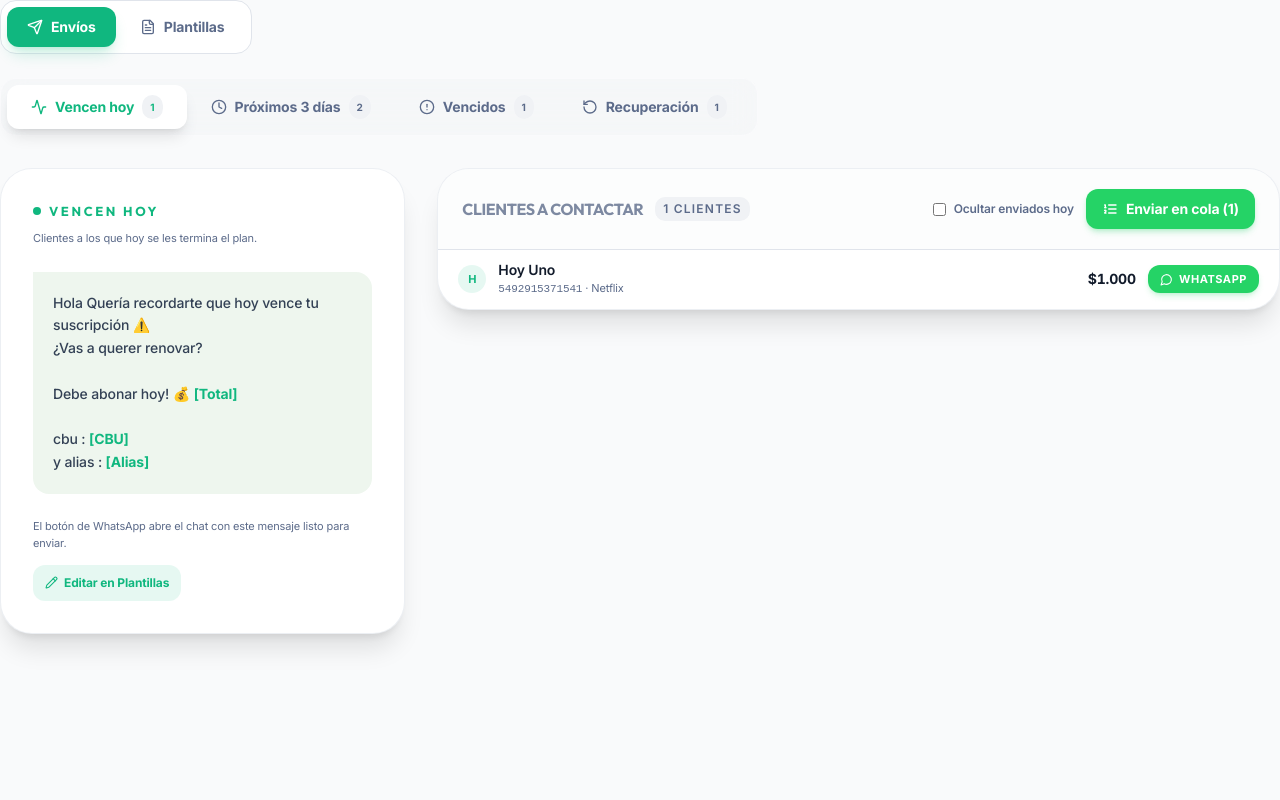
MessagesView › cada pestaña lista solo sus clientes con su plantilla
Expected: the text "Hoy Uno" is shown, [498, 261, 555, 278]
Expected: the text "Pronto Uno" is not shown
Press the mouse on the tab "Próximos 3 días 2" at (291, 107), box [186, 85, 395, 129]
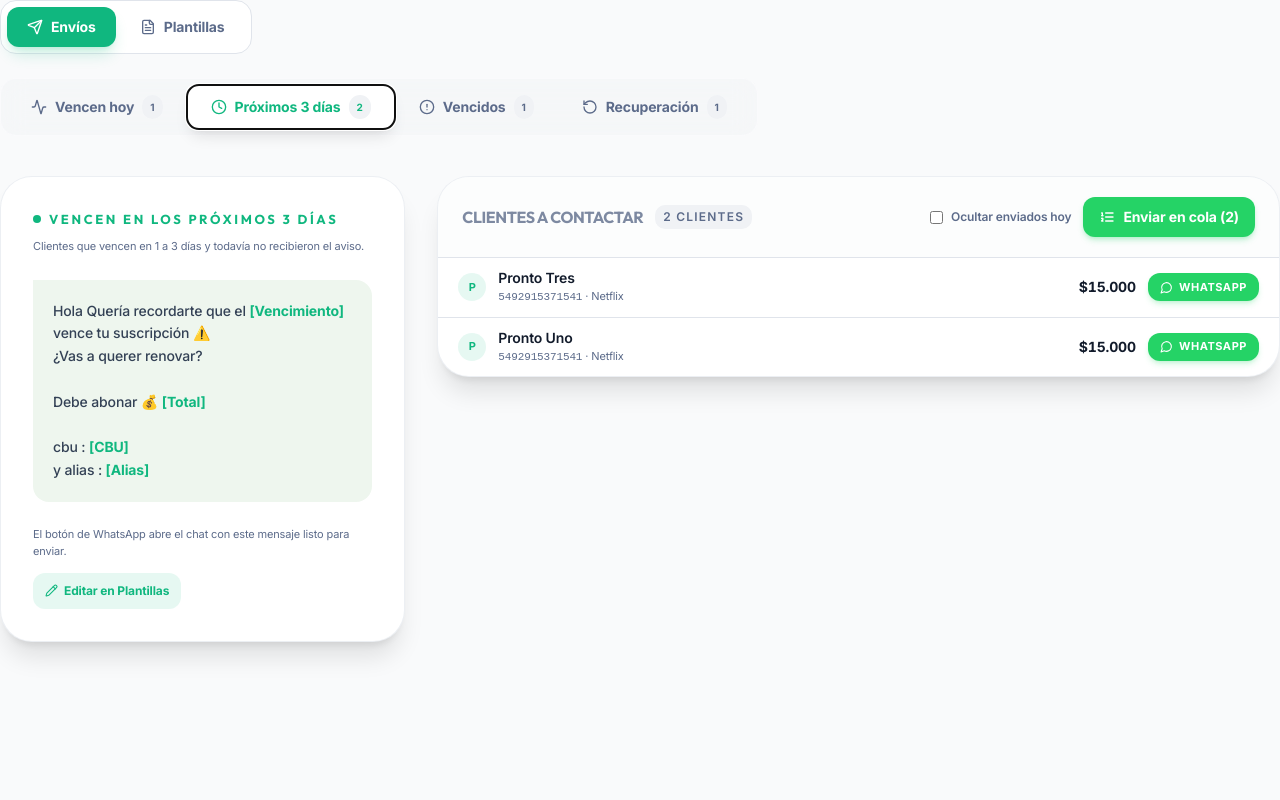
Expected: the text "Pronto Tres" is shown, [498, 269, 575, 286]
Expected: the text "Pronto Uno" is shown, [498, 329, 572, 346]
Expected: the text "Hoy Uno" is gone
Press the mouse on the tab "Vencidos 1" at (476, 107), box [395, 85, 558, 129]
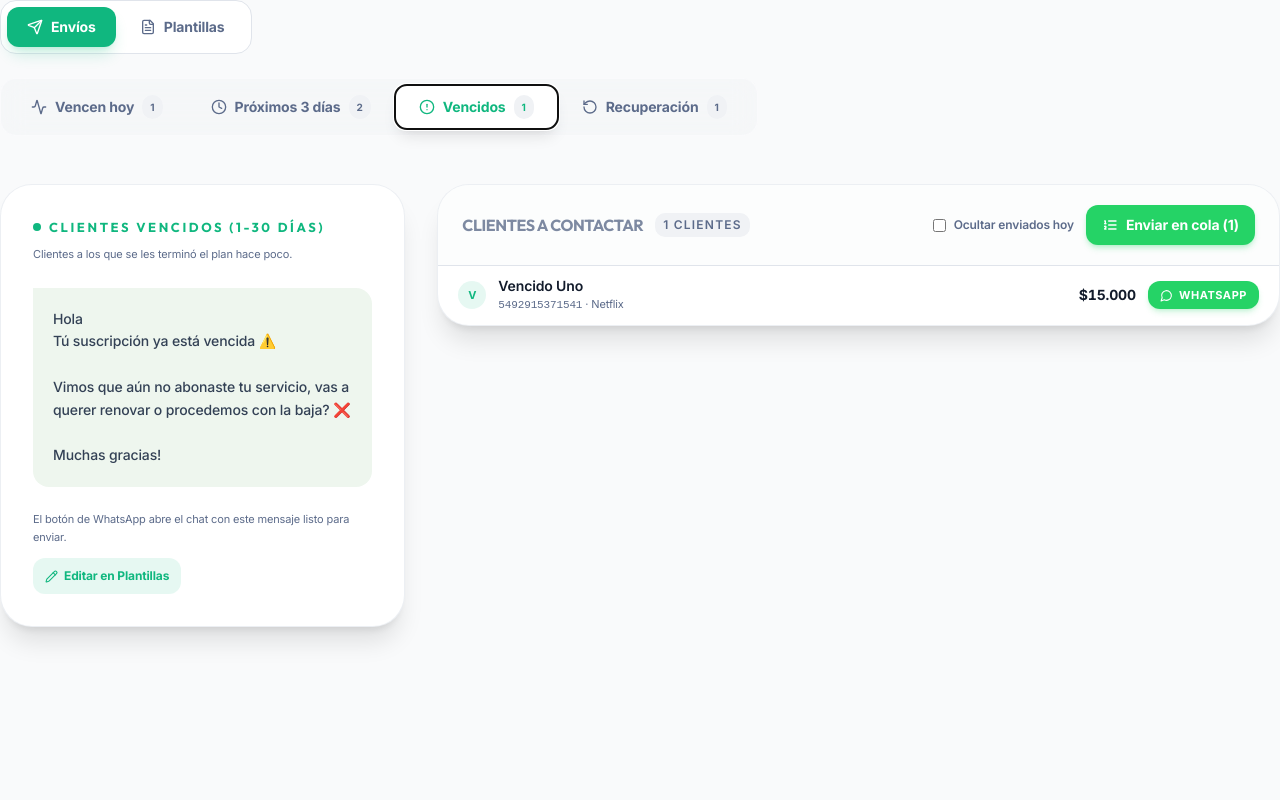
Expected: the text "Vencido Uno" is shown, [498, 277, 583, 294]
Expected: the text "ya está vencida" is shown, [53, 310, 350, 463]
Press the mouse on the tab "Recuperación 1" at (654, 107), box [558, 85, 751, 129]
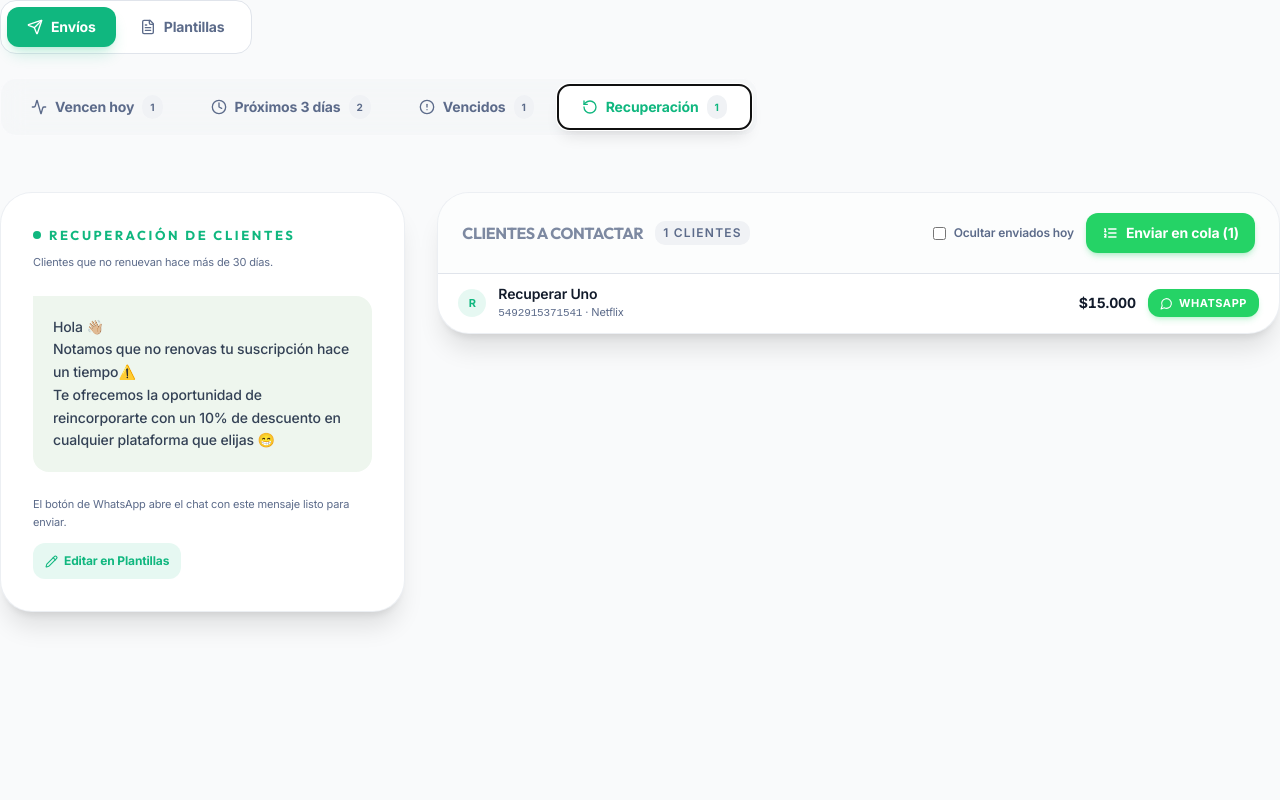
Expected: the text "Recuperar Uno" is shown, [498, 285, 597, 302]
Expected: the text "10% de descuento" is shown, [53, 318, 349, 448]
